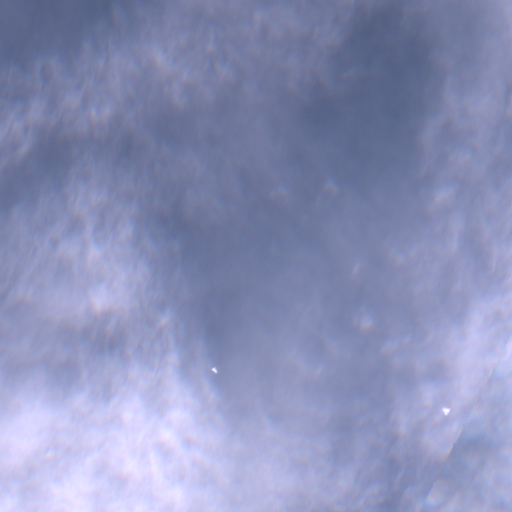Iceberg: (443, 408, 448, 414), (212, 368, 216, 372)
